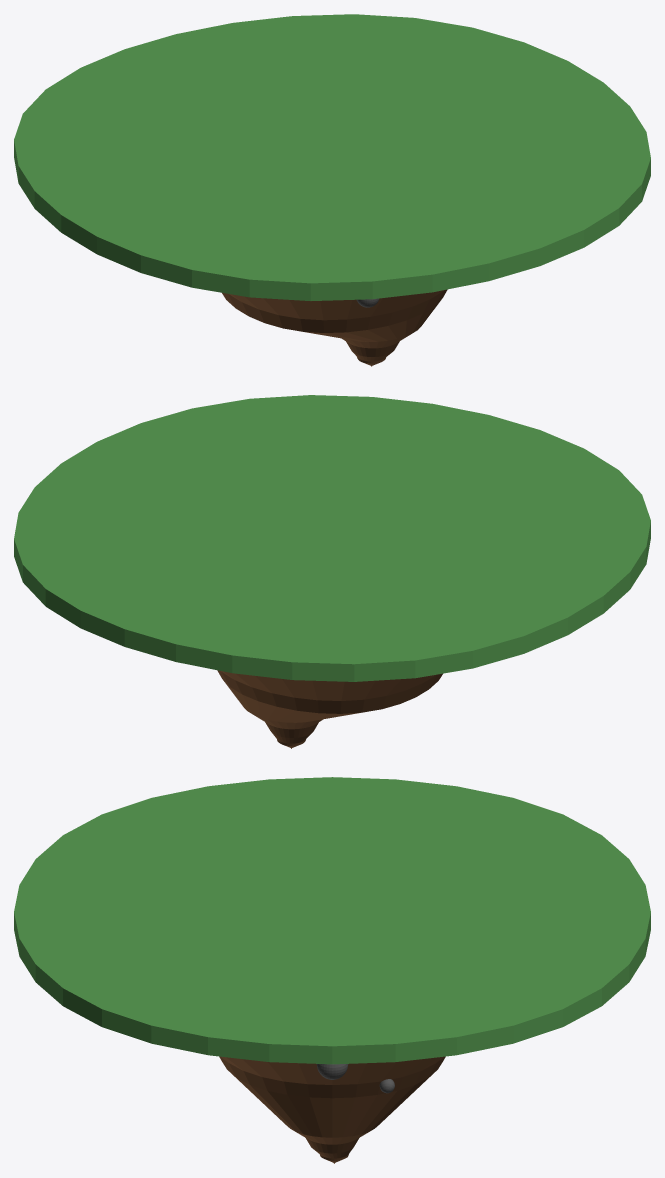
File: island2.fbx
3 renders of one model, top to bottom at view 1: azimuth 30°, elevation 25°; view 2: azimuth 150°, elevation 25°; view 3: azimuth 270°, elevation 25°, orthographic.
Parts seen in each view (by area): view 1: Cube; view 2: Cube; view 3: Cube.
Boxes of the visible parts, x1,y1,x2,y2 form: Cube: (14, 14, 650, 366); Cube: (14, 395, 650, 748); Cube: (14, 777, 650, 1163).
Bounding box in the file's own units: 298 × 120 × 298.
